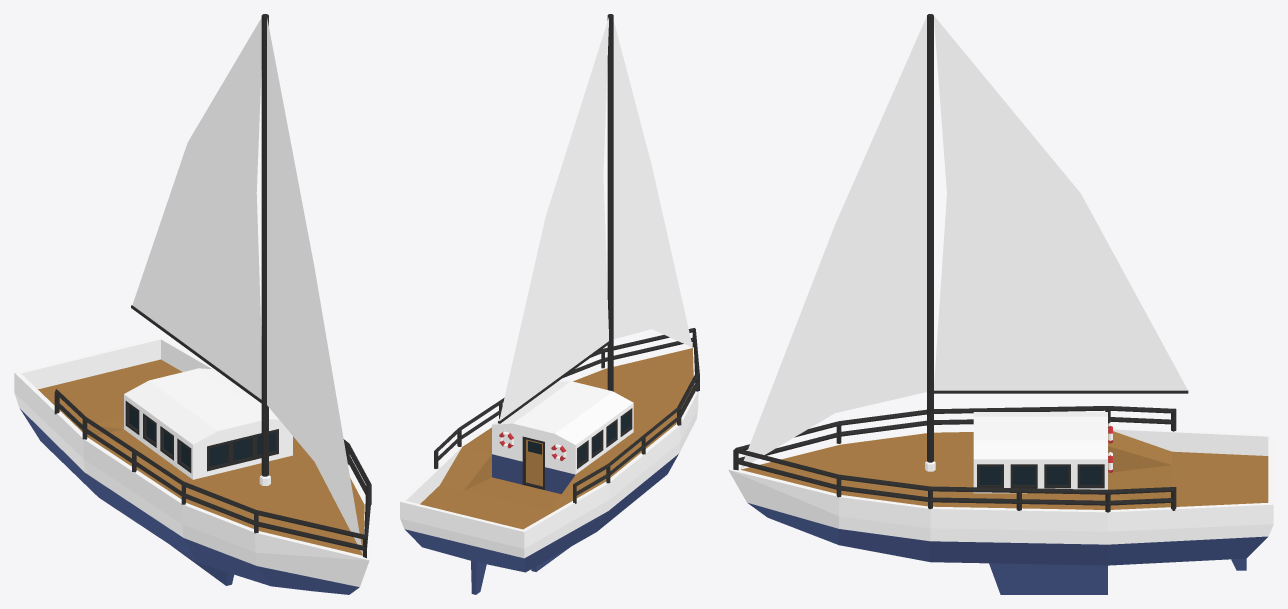
Rendered from boat-sail.glb.
3 views of the same model, side by side, from view 1: azimuth 30°, elevation 25°; view 2: azimuth 150°, elevation 25°; view 3: azimuth 270°, elevation 25° (orthographic). The views are drawn at different scales.
Visible parts, largest first — view 1: boat-sail; view 2: boat-sail; view 3: boat-sail.
Boxes of the visible parts, <box> form: boat-sail: <box>14,14,371,594</box>; boat-sail: <box>400,14,699,594</box>; boat-sail: <box>728,14,1273,594</box>.
Bounding box in the file's own units: 7.61 × 23.8 × 20.35.
1 material, 1 textured.
